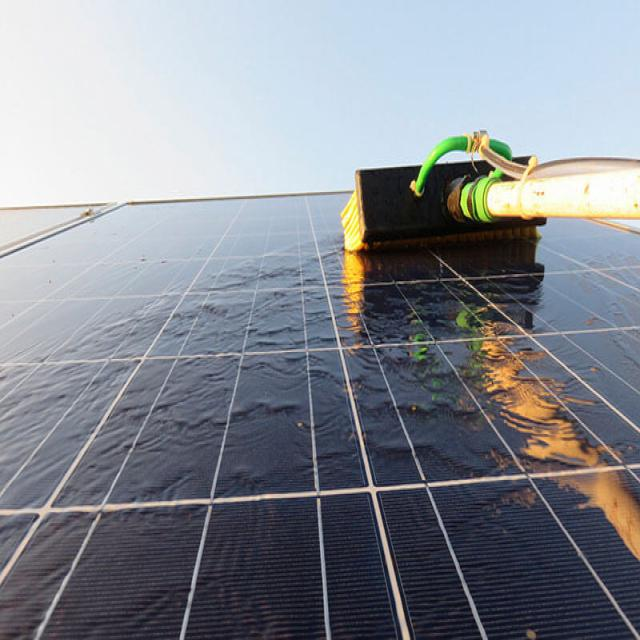Clean: (0, 182, 640, 634)
